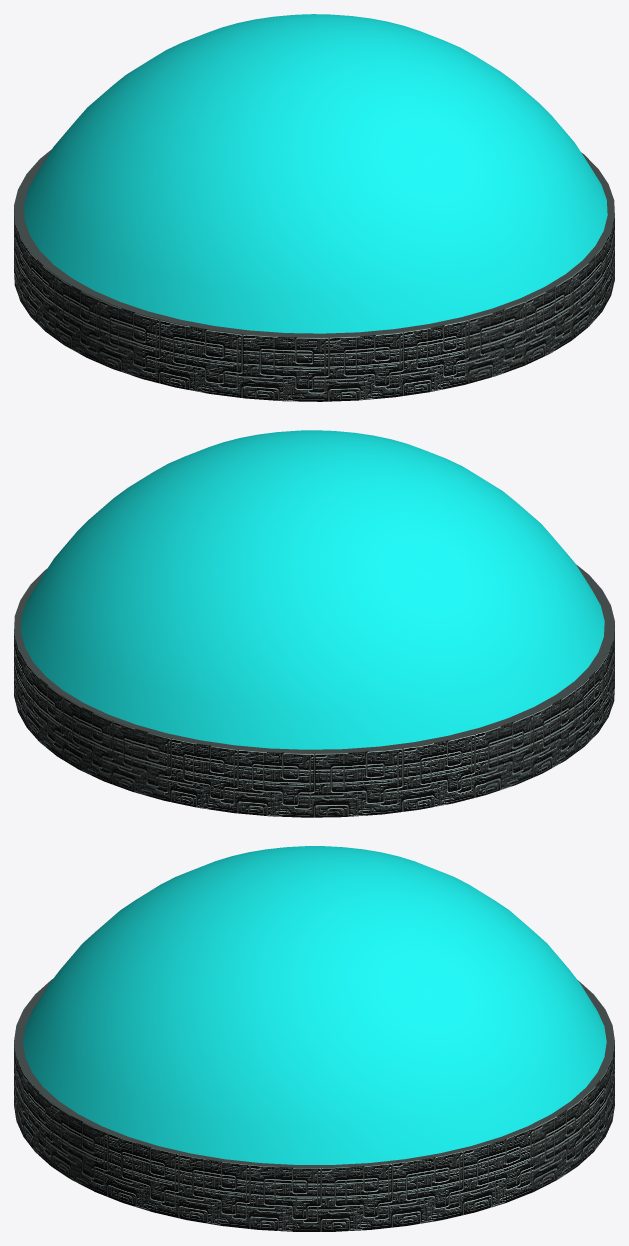
The model's file is dome.FBX.
3 renders of one model, top to bottom at view 1: azimuth 30°, elevation 25°; view 2: azimuth 150°, elevation 25°; view 3: azimuth 270°, elevation 25°, orthographic.
Parts seen in each view (by area): view 1: Sphere001, Tube001; view 2: Sphere001, Tube001; view 3: Sphere001, Tube001.
Part boxes in pixels (<box>): Sphere001: <box>24,14,607,333</box>; Tube001: <box>14,149,614,401</box>; Sphere001: <box>21,430,604,749</box>; Tube001: <box>14,564,614,817</box>; Sphere001: <box>23,846,606,1164</box>; Tube001: <box>14,979,614,1231</box>.
Size of the model in its own units: 72.79 by 72.93 by 30.82.
Materials: 2 (2 with a texture image).
